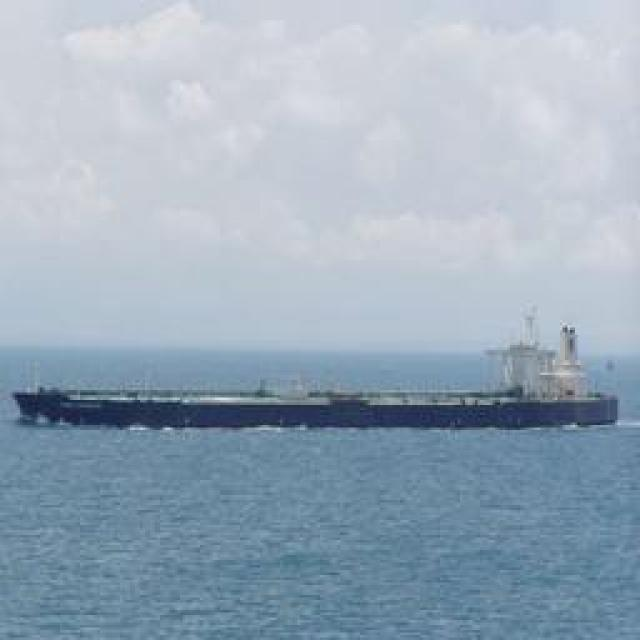CIV_Ship: (19, 342, 624, 432)
